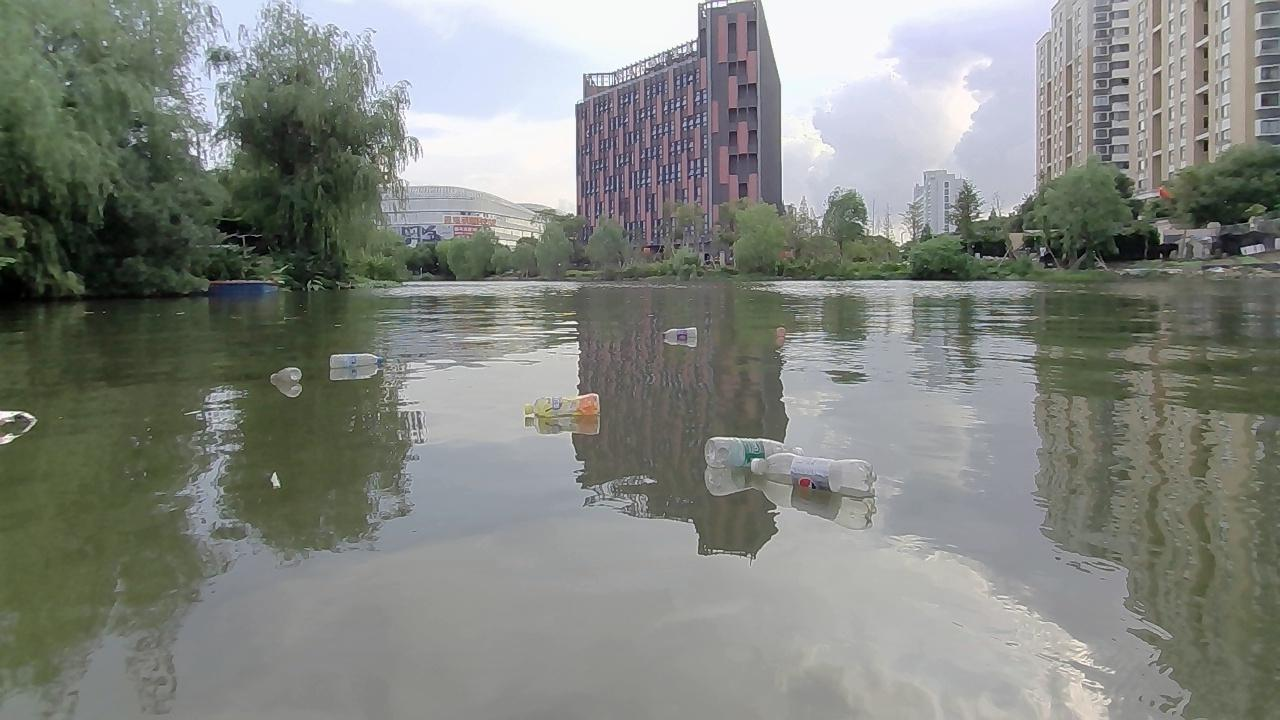Plastic: (750, 452, 880, 499), (702, 436, 807, 471), (524, 391, 602, 417), (329, 352, 384, 369), (270, 364, 302, 385), (661, 325, 698, 341), (774, 325, 789, 339)
